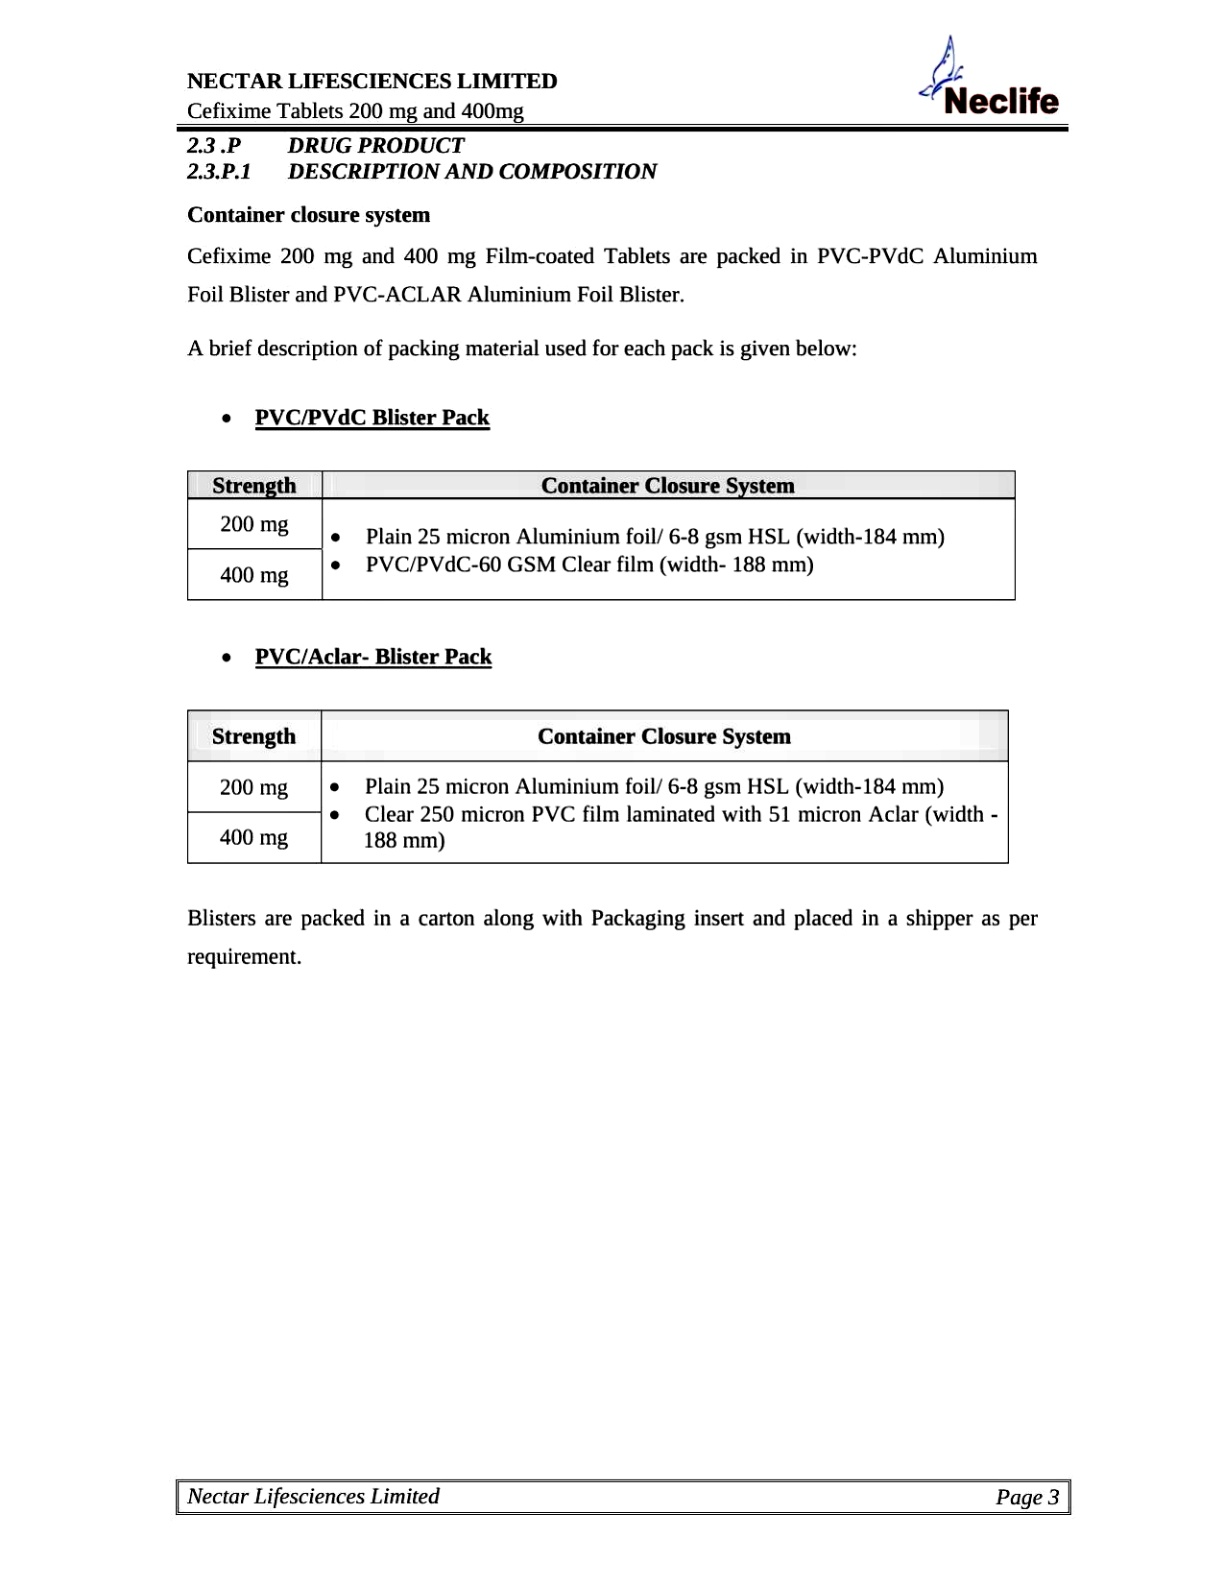merged_cells: (186, 709, 1011, 865), (186, 469, 1017, 601)
